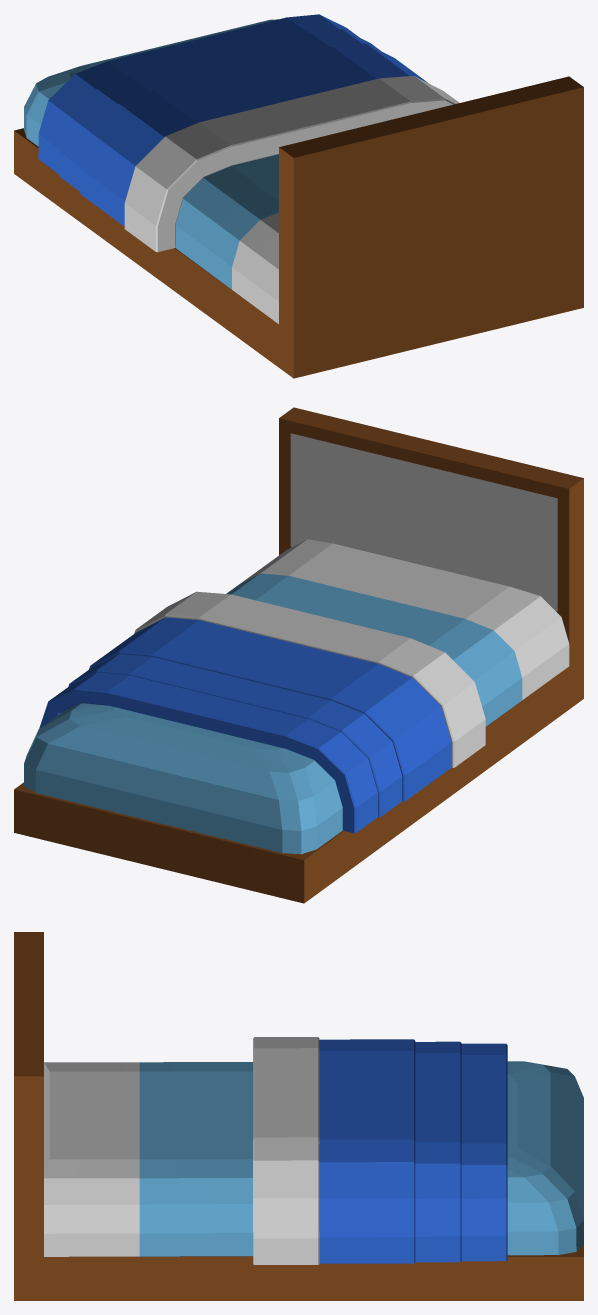
The model's file is Bed 7.fbx.
3 views of the same model, one above another, from view 1: azimuth 30°, elevation 25°; view 2: azimuth 150°, elevation 25°; view 3: azimuth 270°, elevation 25° (orthographic).
Parts seen in each view (by area): view 1: Bed; view 2: Bed; view 3: Bed.
Boxes of the visible parts, x1,y1,x2,y2 form: Bed: (14, 14, 583, 378); Bed: (14, 407, 583, 903); Bed: (14, 932, 583, 1300).
Bounding box in the file's own units: 3.6 × 1.57 × 2.45.
